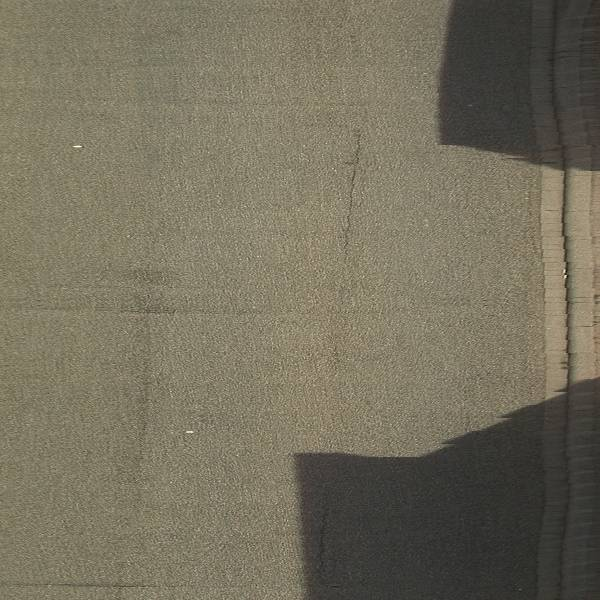road_damage: (326, 114, 372, 275)
